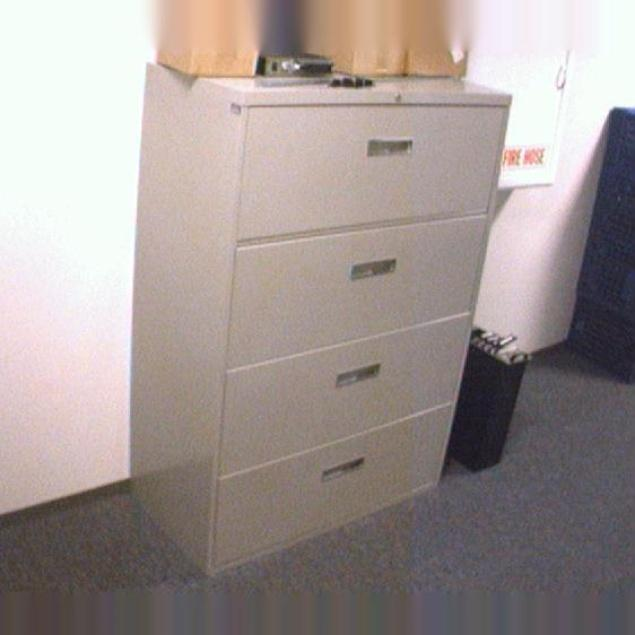Filing Cabinet: (127, 60, 513, 575)
